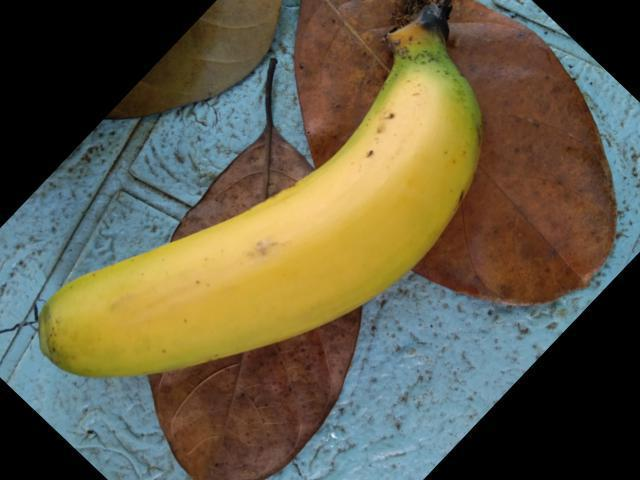freshripe: (9, 37, 481, 402)
